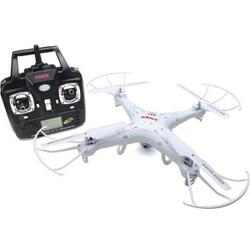drone: (36, 74, 249, 211)
